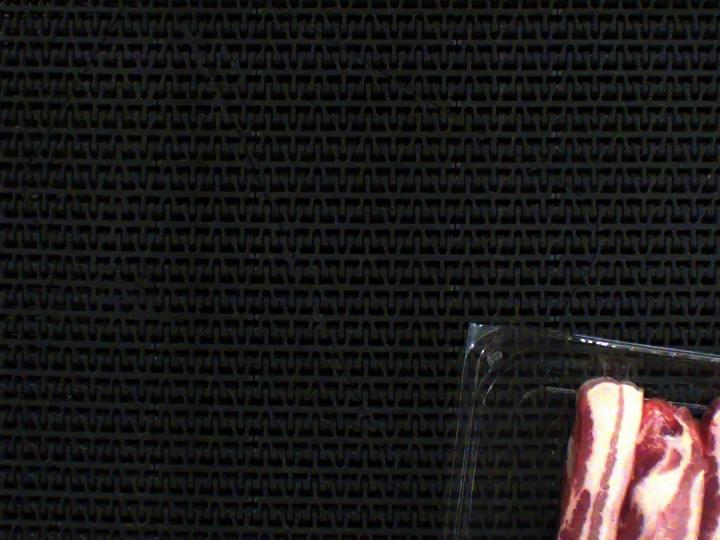packaging-error: (591, 348, 638, 388)
